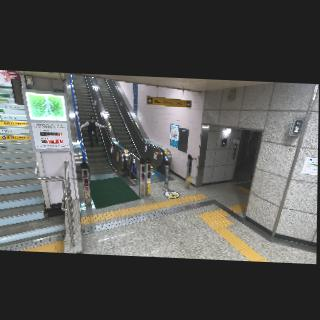normal: (78, 115, 108, 149)
